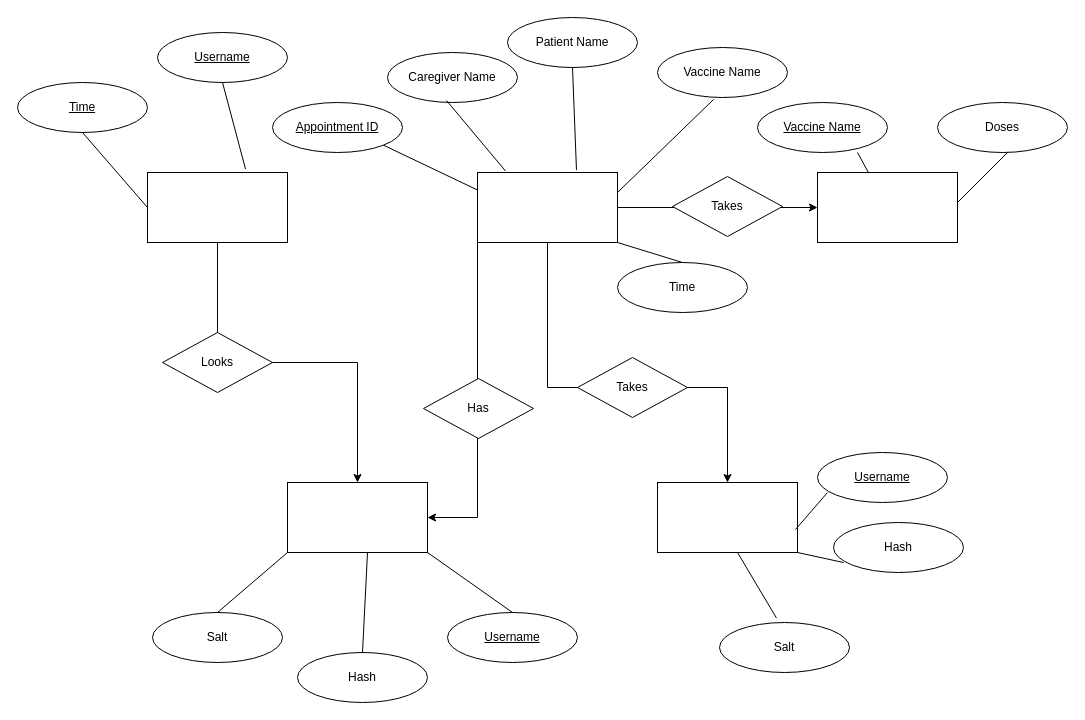
Image size: 1085x720. Some labels were removed from this diagram. The shapes that lost their labels are listed below. From the top down, each one's centre as x and y in pixels, then its label:
At [217,207]: "Availability".
At [547,207]: "Appointment".
At [887,207]: "Vaccine".
At [357,517]: "Caregiver".
At [727,517]: "Patient".
